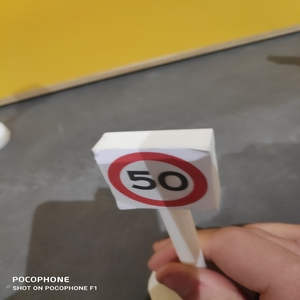50-bord: (106, 150, 210, 208)
